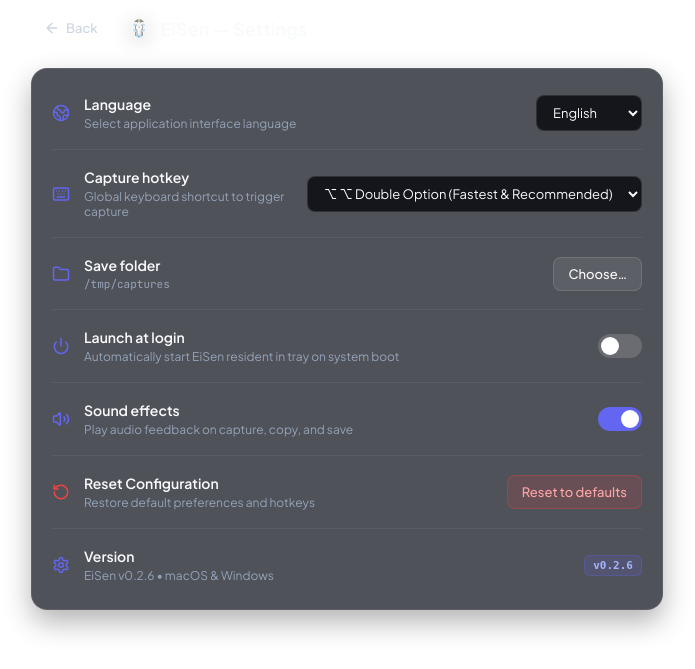
Test: language › persists Vi and switches the dictionary when Tiếng Việt is selected
Select "Tiếng Việt" in the dropdown in the row of "Select application interface language". click: [589, 113]
box: [536, 95, 642, 131]
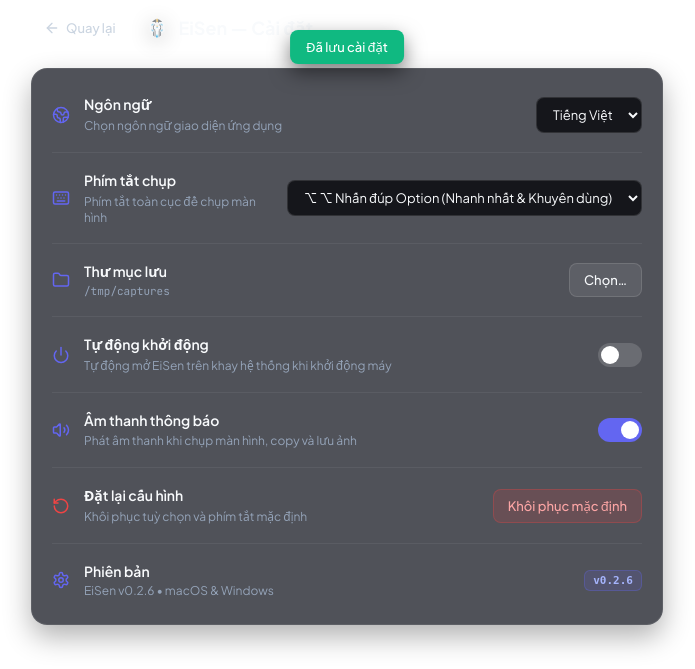
Expected: the heading "EiSen — Cài đặt" is shown, [178, 16, 313, 40]
Expected: the message reads "Đã lưu cài đặt", [306, 39, 388, 55]
